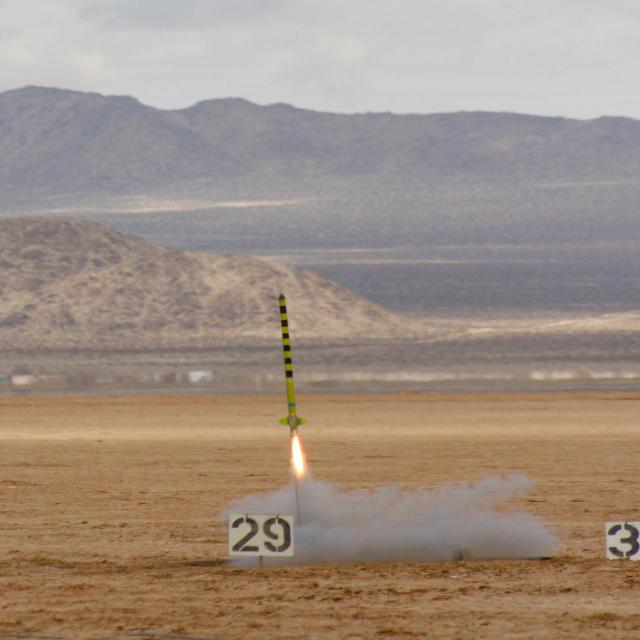Rocket: (276, 292, 307, 434)
